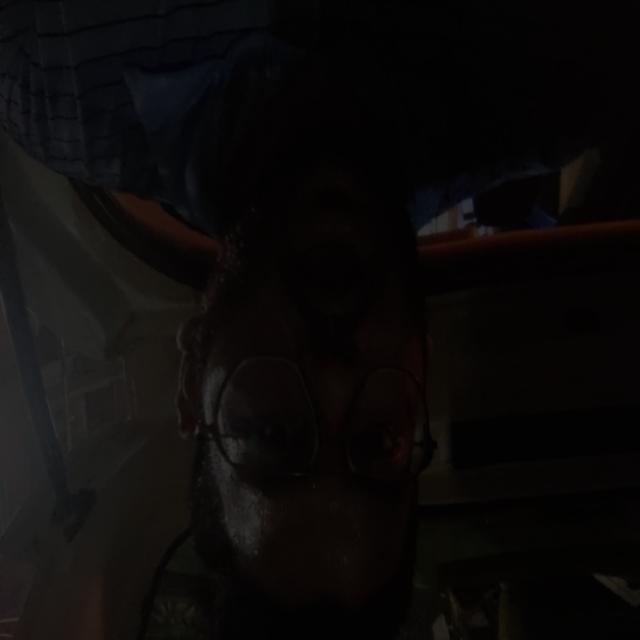Surprised: (133, 157, 488, 554)
